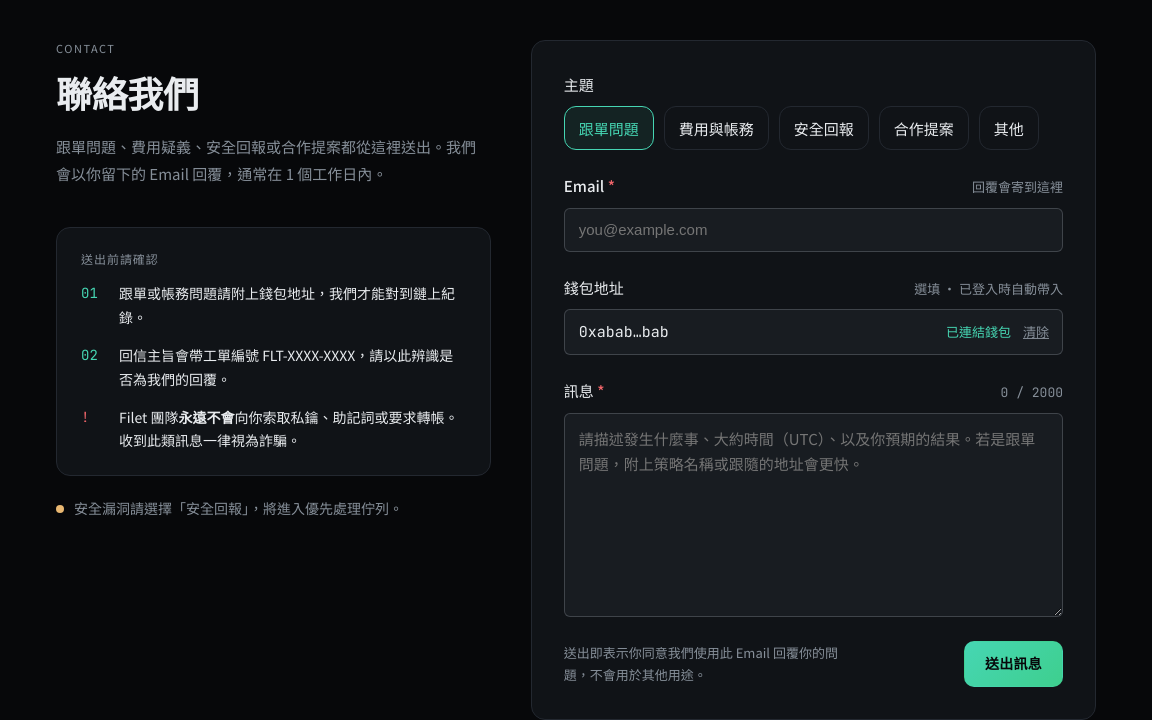
Test: /contact › R3-06 清除鈕
This screenshot has width=1152, height=720.
Click the button "清除" at x=1036, y=332, box [1023, 322, 1049, 342]
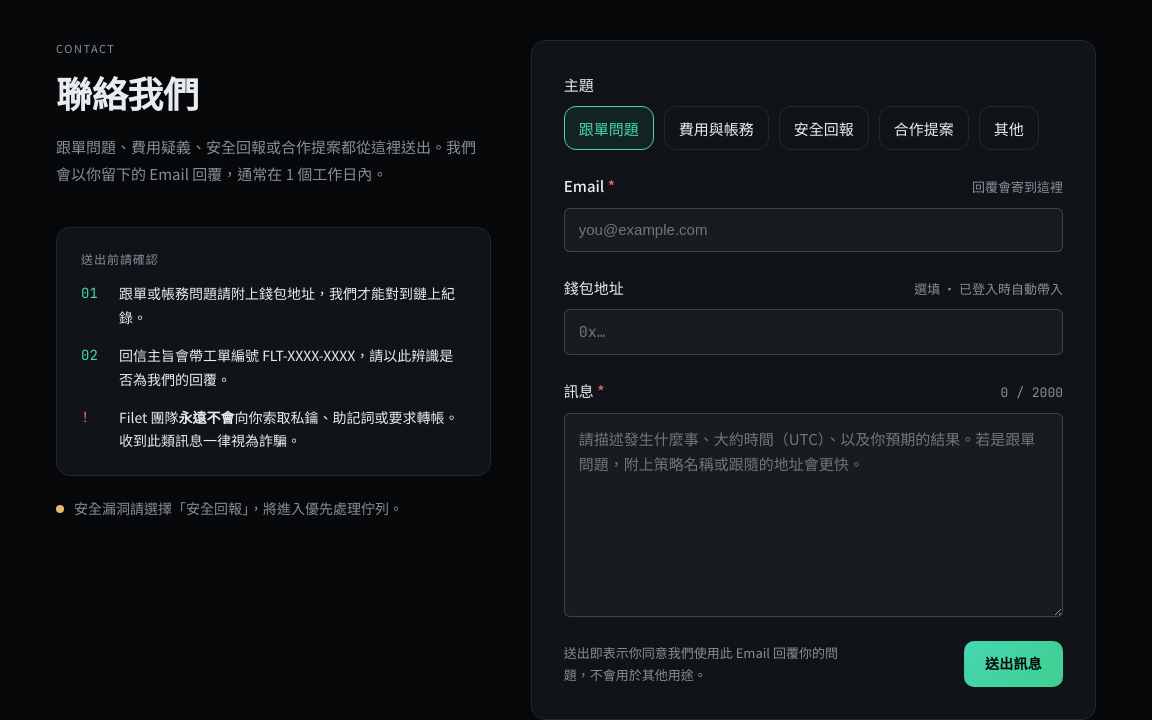
expect the field labelled "錢包地址" is empty: met, box [564, 309, 1063, 355]
expect the text "已連結錢包" is gone: met
